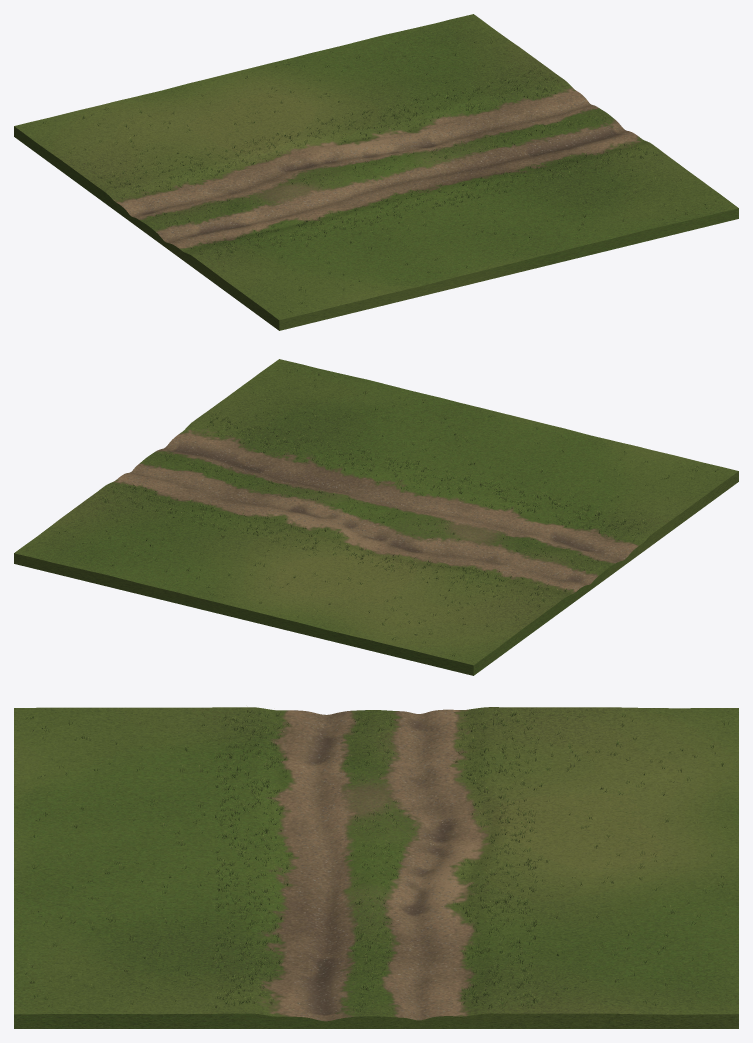
File: dirt-road.glb
The picture shows the model from 3 angles, top to bottom: view 1: azimuth 30°, elevation 25°; view 2: azimuth 150°, elevation 25°; view 3: azimuth 270°, elevation 25°; orthographic projection. The views are drawn at different scales.
Visible parts, largest first — view 1: dirt-road_terrain, dirt-road; view 2: dirt-road_terrain, dirt-road; view 3: dirt-road_terrain, dirt-road.
Part boxes in pixels (x1=…): dirt-road_terrain: x1=14, y1=14, x2=738, y2=330; dirt-road: x1=43, y1=31, x2=715, y2=312; dirt-road_terrain: x1=14, y1=359, x2=738, y2=675; dirt-road: x1=56, y1=368, x2=717, y2=656; dirt-road_terrain: x1=14, y1=707, x2=738, y2=1028; dirt-road: x1=25, y1=707, x2=730, y2=1011.
Size of the model in its own units: 11.8 by 0.4151 by 11.8.
2 materials, 2 textured.
